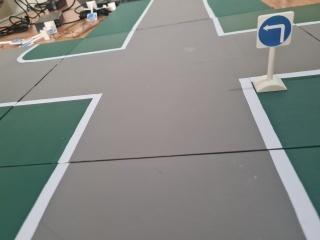left: (253, 8, 297, 50)
